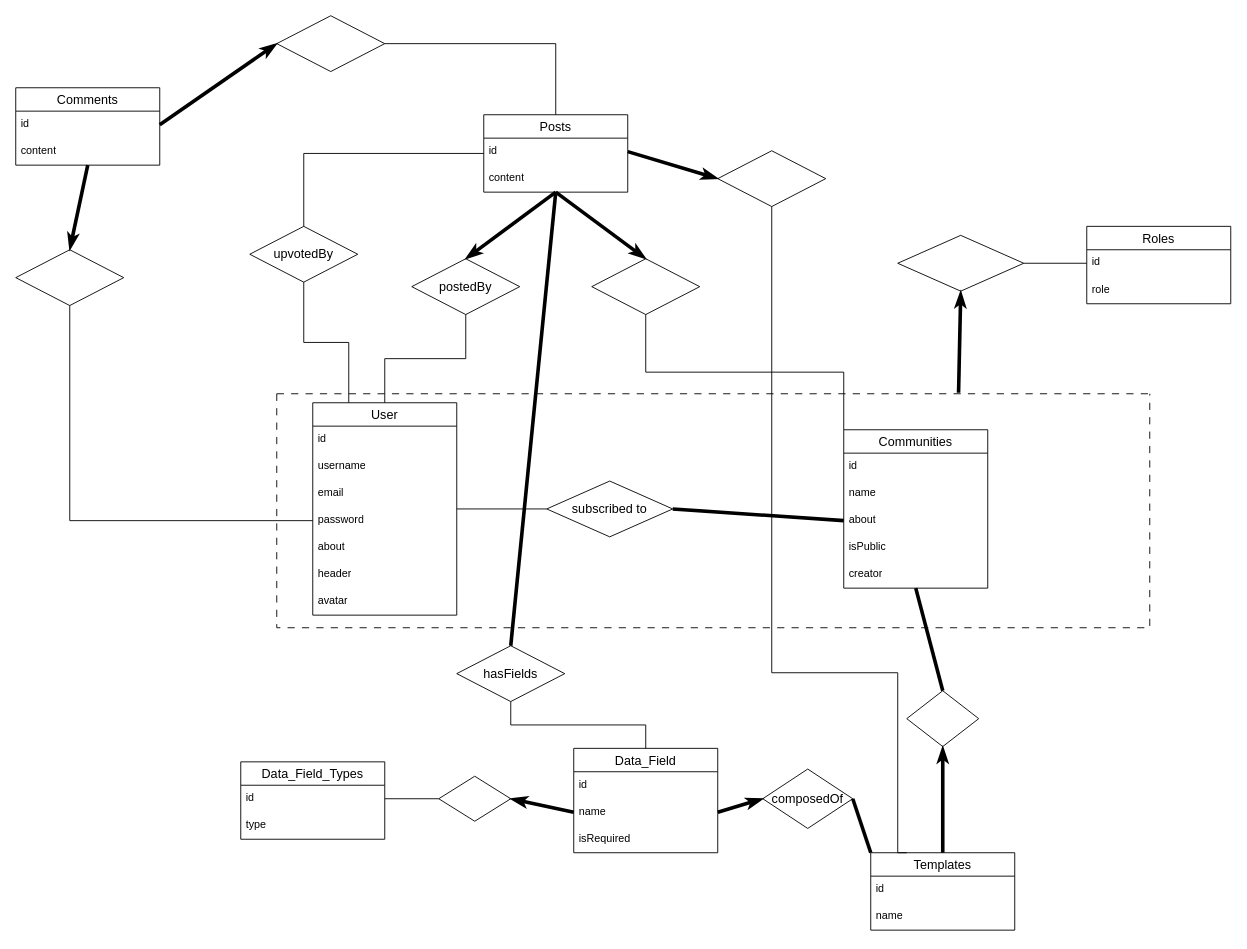
The diagram is 1247 pixels wide and 949 high, and some of its shapes have lost their labels. The centre of each missing label's shape, as x and y in pixels:
"assigned to" goes at [960,262].
"belongsTo" goes at [645,286].
"compliesTo" goes at [771,178].
"has" goes at [942,718].
"madeBy" goes at [69,277].
"madeFor" goes at [330,43].
"typeOf" goes at [474,798].
